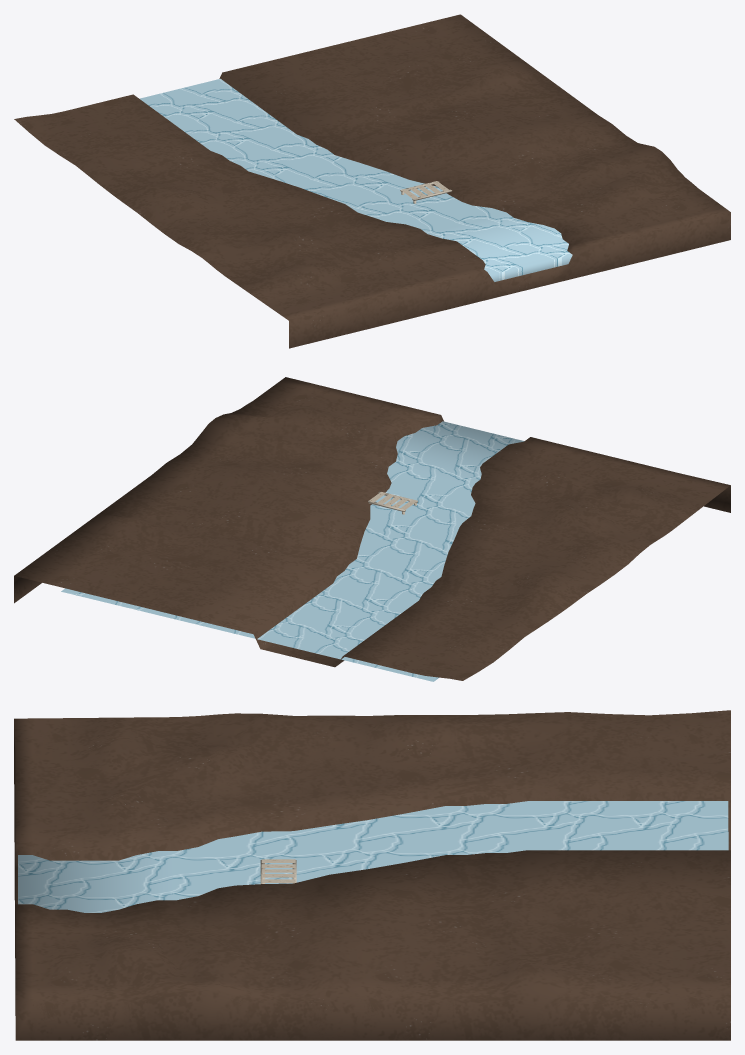
The model's file is fishingscape_grass.glb.
3 views of the same model, one above another, from view 1: azimuth 30°, elevation 25°; view 2: azimuth 150°, elevation 25°; view 3: azimuth 270°, elevation 25° (orthographic). The views are drawn at different scales.
Parts seen in each view (by area): view 1: riverbed, water; view 2: riverbed, water; view 3: riverbed, water.
Part boxes in pixels (x1=…): riverbed: x1=14, y1=14, x2=730, y2=348; water: x1=139, y1=78, x2=572, y2=281; riverbed: x1=14, y1=377, x2=730, y2=680; water: x1=61, y1=421, x2=524, y2=681; riverbed: x1=14, y1=710, x2=730, y2=1040; water: x1=18, y1=801, x2=728, y2=912.
Bounding box in the file's own units: 145 × 12.19 × 152.
6 materials, 5 textured.
